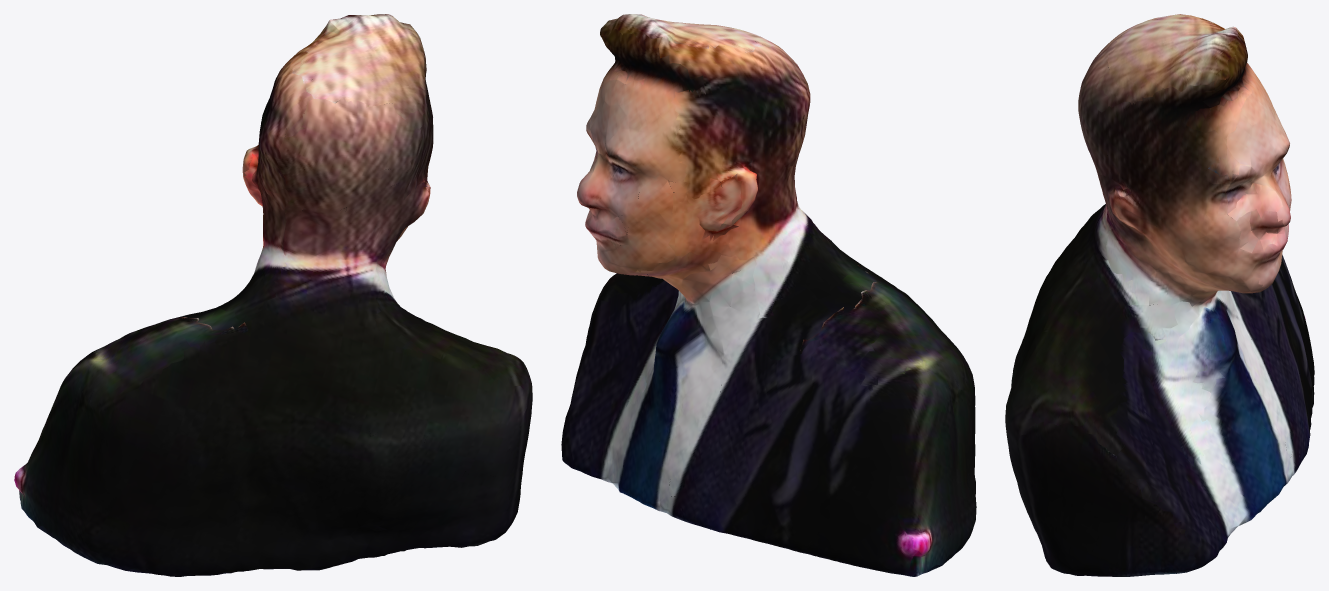
3 views of the same model, side by side, from view 1: azimuth 30°, elevation 25°; view 2: azimuth 150°, elevation 25°; view 3: azimuth 270°, elevation 25° (orthographic). The views are drawn at different scales.
Visible parts, largest first — view 1: world; view 2: world; view 3: world.
Boxes of the visible parts, <box> form: world: <box>14,14,532,576</box>; world: <box>561,14,976,576</box>; world: <box>1005,14,1314,576</box>.
Bounding box in the file's own units: 0.9129 × 1.01 × 0.5597.
Materials: 1 (1 with a texture image).
